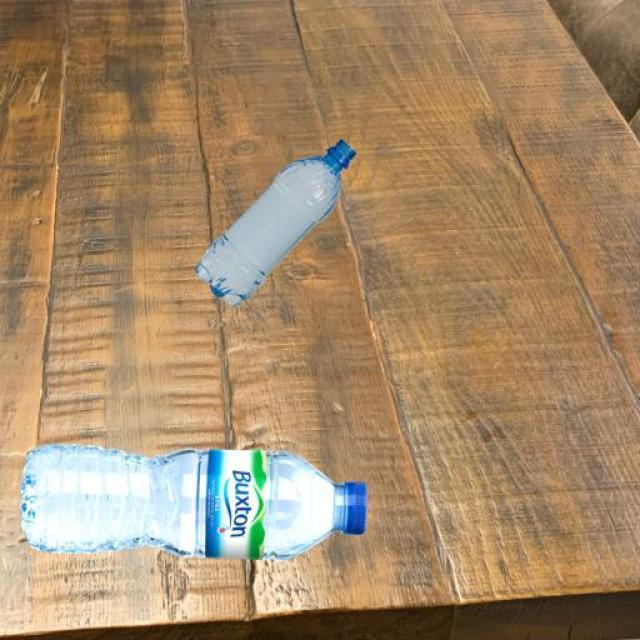bottle: (18, 441, 368, 560), (194, 136, 356, 306)
